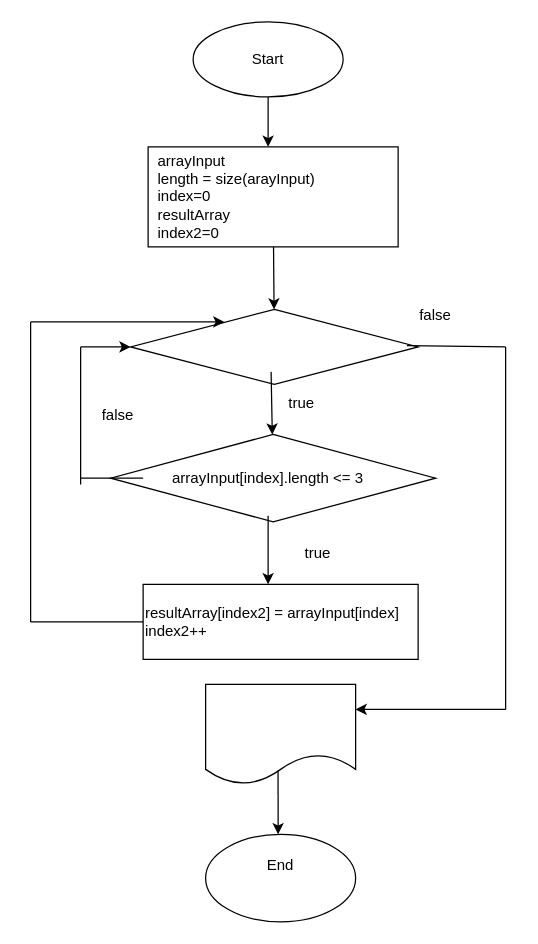
The diagram is 538 pixels wide and 944 high, and some of its shapes have lost their labels. The shapes that lost their labels are listed below. From the top down, each one's centre as x and y in pixels, then its label:
At (273,346): "index < length".
At (280,733): "resultArray".
